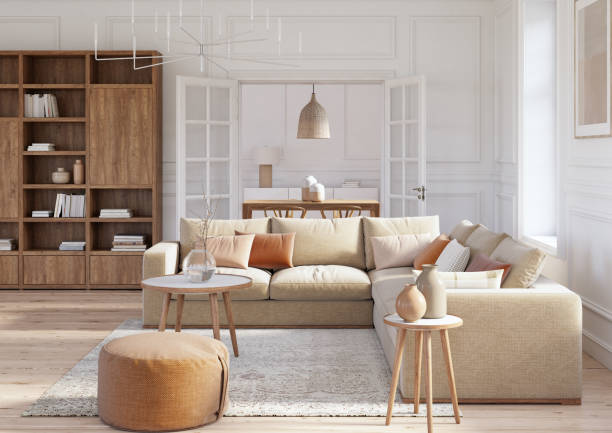dining table set: (241, 191, 382, 219)
flower vase: (183, 199, 226, 282)
side table: (383, 312, 464, 433)
sofa: (139, 215, 587, 405)
table: (139, 270, 252, 355)
wall art: (569, 0, 612, 141)
